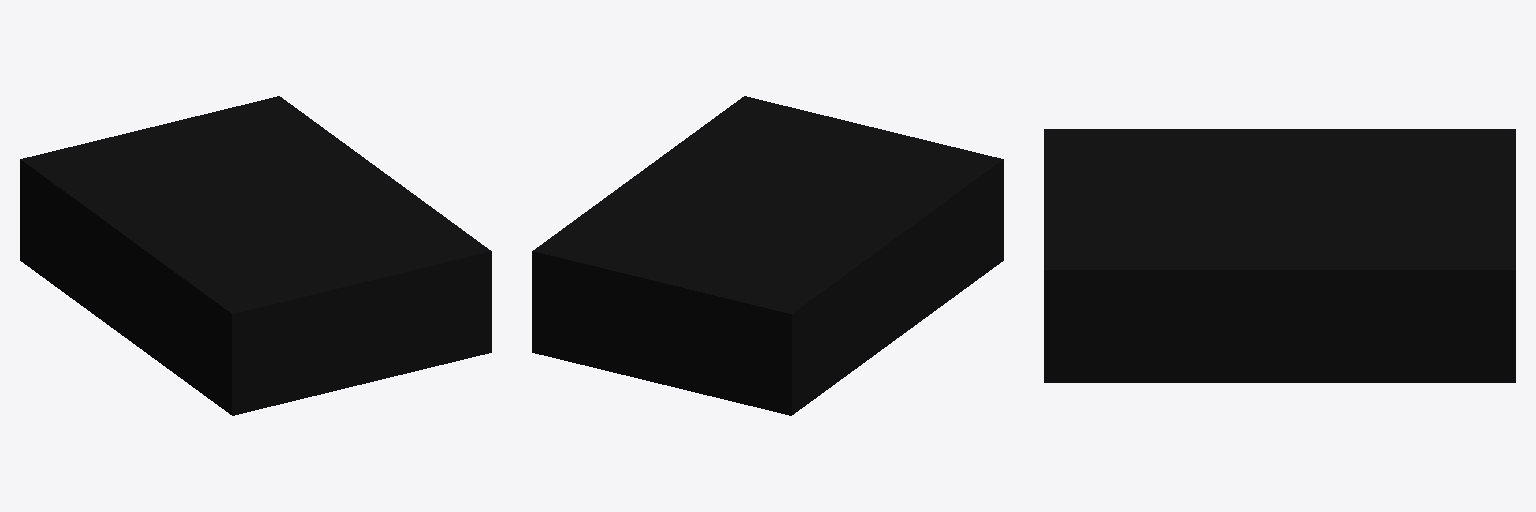
The robot description file, URDF, robot "server":
<?xml version="1.0"?>
<robot name="server">
  <link name="server_body">
    <visual>
      <origin xyz="0 0 0"/>
      <geometry><box size="0.48 0.68 0.18"/></geometry> <!-- 比插槽小一点，方便放置 -->
      <material name="black"><color rgba="0.1 0.1 0.1 1"/></material>
    </visual>
    <collision>
      <origin xyz="0 0 0"/>
      <geometry><box size="0.48 0.68 0.18"/></geometry>
    </collision>
    <inertial>
      <origin xyz="0 0 0"/>
      <mass value="1.0"/> <!-- TIAGo夹爪可承载的重量 -->
      <inertia ixx="0.05" ixy="0" ixz="0" iyy="0.05" izz="0.05"/>
    </inertial>
  </link>
</robot>

--- What the picture shows (computed from the rendered views, not written in the file) ---
3 views of the same robot in one strip: view 1: azimuth 30°, elevation 25°; view 2: azimuth 150°, elevation 25°; view 3: azimuth 270°, elevation 25° (orthographic).
Robot: server — 1 links, 0 joints (none); root link server_body; default pose: all joints at 0.
Visible links, largest first — view 1: server_body; view 2: server_body; view 3: server_body.
Link boxes in pixels (left/top/right/bottom): server_body: left=20, top=96, right=491, bottom=415; server_body: left=532, top=96, right=1003, bottom=415; server_body: left=1044, top=129, right=1515, bottom=382.
Size in the robot's own frame: 0.48 by 0.68 by 0.18 metres.
Geometry: primitives only (box / cylinder / sphere), no mesh files.
